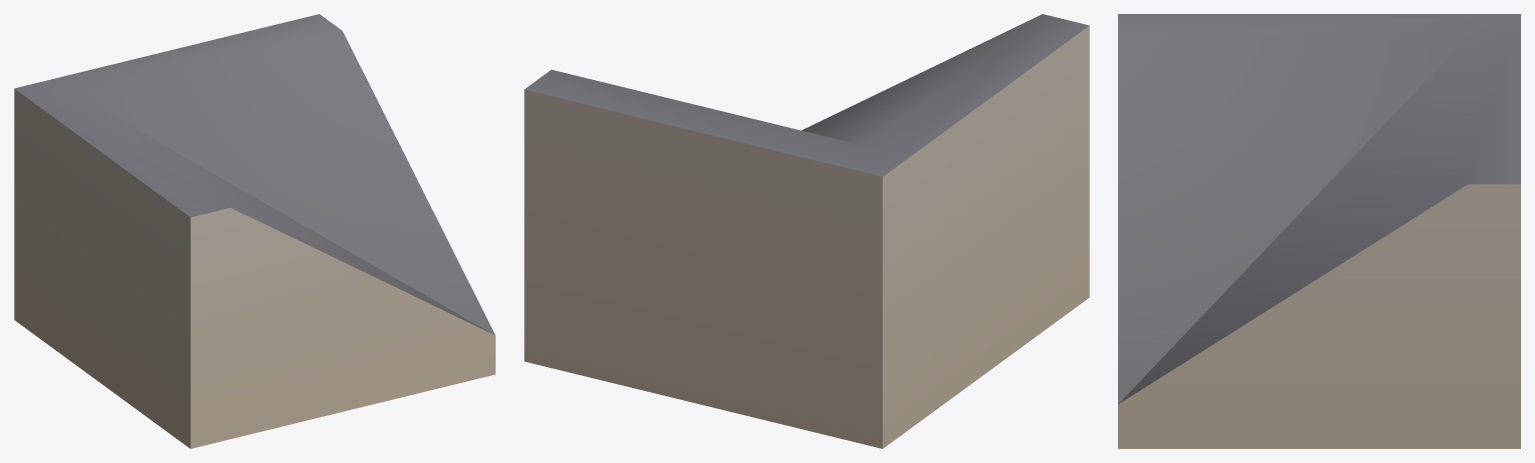
Rendered from roof-slanted-corner-inner.glb.
3 views of the same model, side by side, from view 1: azimuth 30°, elevation 25°; view 2: azimuth 150°, elevation 25°; view 3: azimuth 270°, elevation 25° (orthographic). The views are drawn at different scales.
Parts seen in each view (by area): view 1: roof-slanted-corner-inner; view 2: roof-slanted-corner-inner; view 3: roof-slanted-corner-inner.
Part boxes in pixels (x1,y1,x2,y2): roof-slanted-corner-inner: [14, 14, 495, 448]; roof-slanted-corner-inner: [524, 14, 1089, 448]; roof-slanted-corner-inner: [1118, 14, 1520, 448].
Bounding box in the file's own units: 1 × 0.725 × 1.
